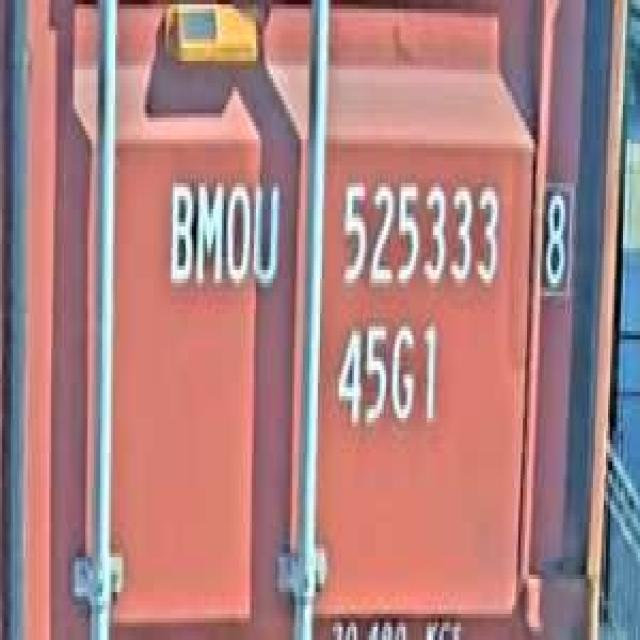dv: (535, 174, 574, 301)
owner: (162, 165, 284, 305)
serial: (333, 166, 503, 300)
size: (328, 309, 444, 440)
